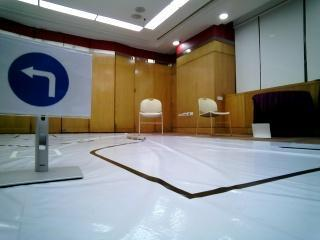left: (0, 43, 95, 117)
